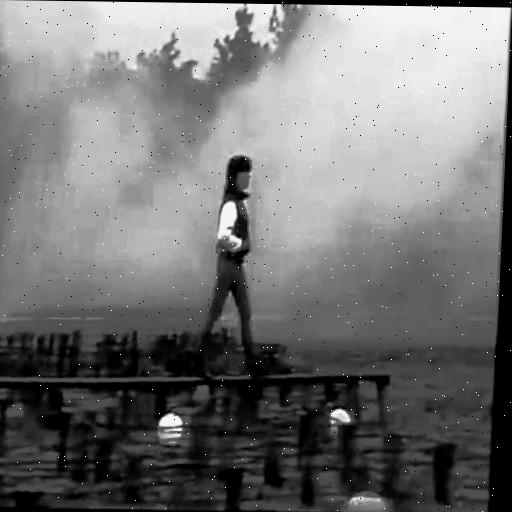balloon: (342, 488, 390, 512), (159, 411, 184, 450), (326, 405, 353, 438), (187, 383, 212, 409)
